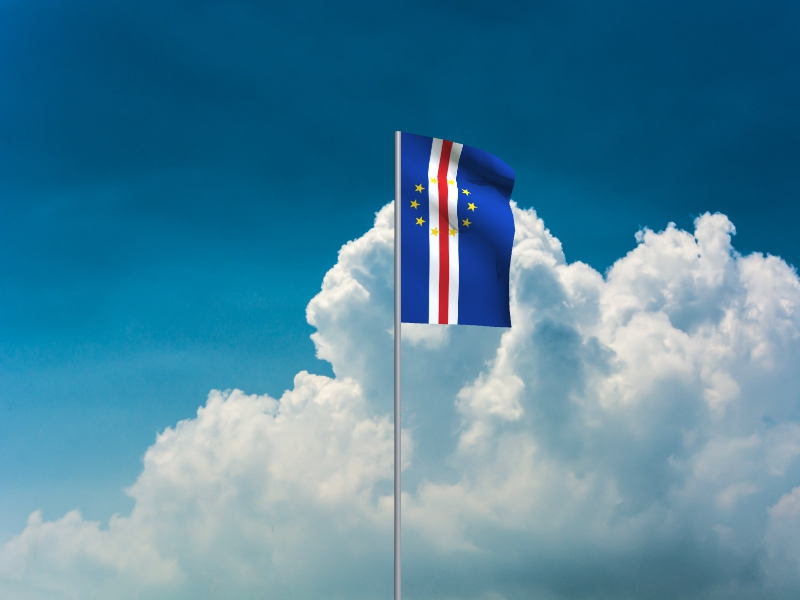cv: (402, 132, 517, 329)
